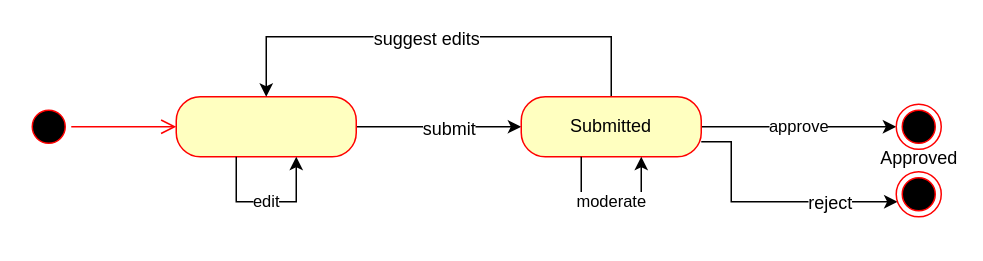
The diagram is 983 pixels wide and 261 high, and some of its shapes have lost their labels. Each missing label, with the box of its shape:
Draft: (175, 95, 356, 157)
Rejected: (895, 170, 941, 217)
